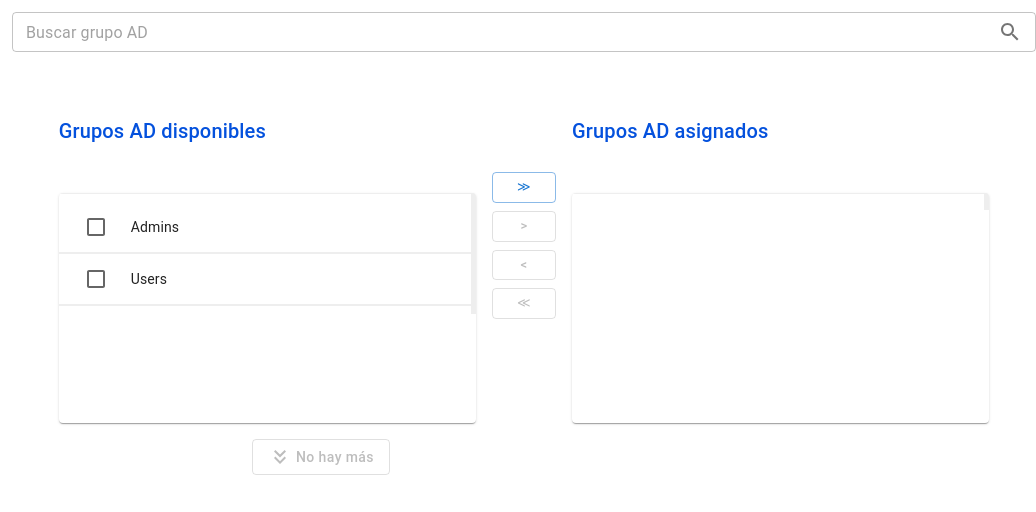
GroupAssignmentForm › shows validation error when no groups assigned
Expected: the text "Debes asignar al menos un grupo" is not shown
select one from left and move to right
Step 1. Click the text "Admins" → (155, 227), box [131,219,179,235]
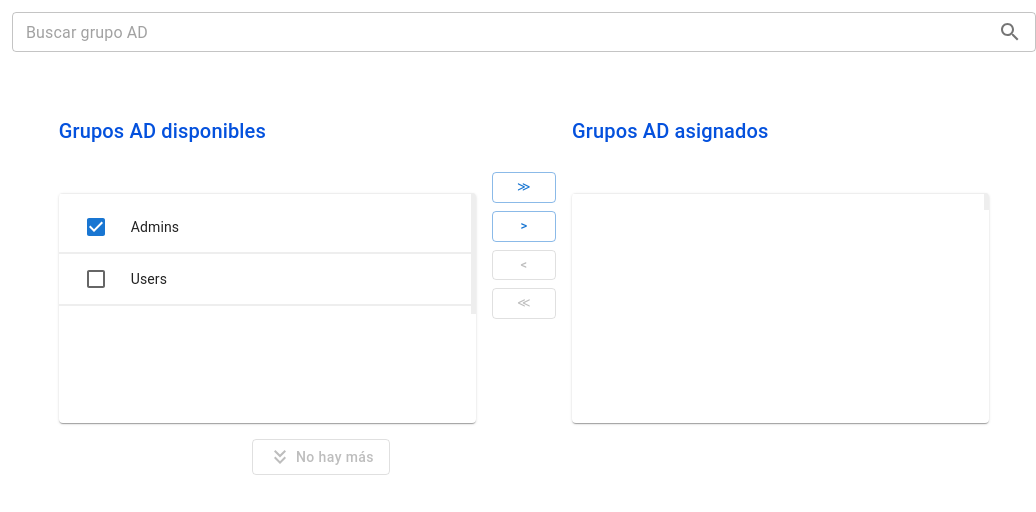
Step 2. Click the button ">" → (524, 226), box [492,211,556,242]
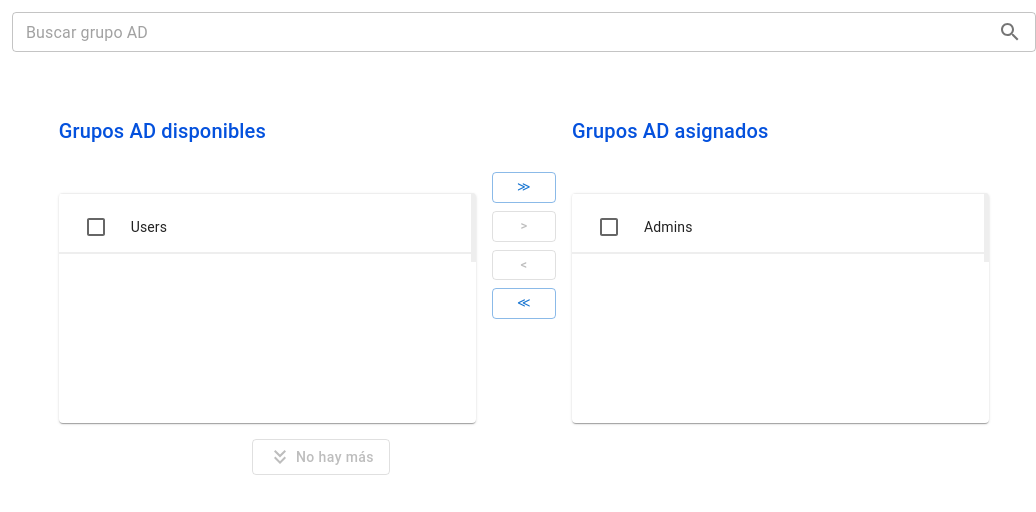
Expected: the text "Debes asignar al menos un grupo" is not shown
Step 3. Click the text "Admins" → (668, 227), box [644,219,693,235]
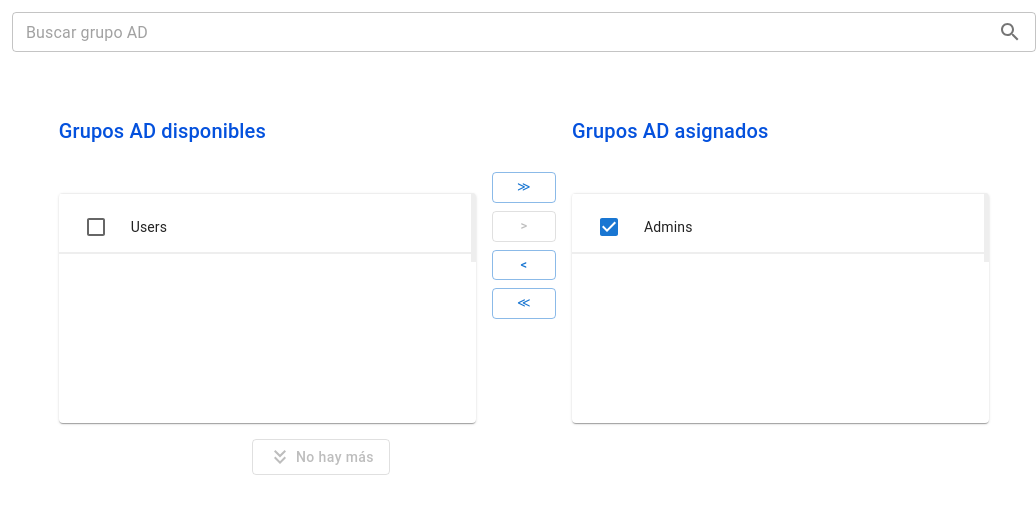
Step 4. Click the button "<" → (524, 265), box [492,250,556,280]
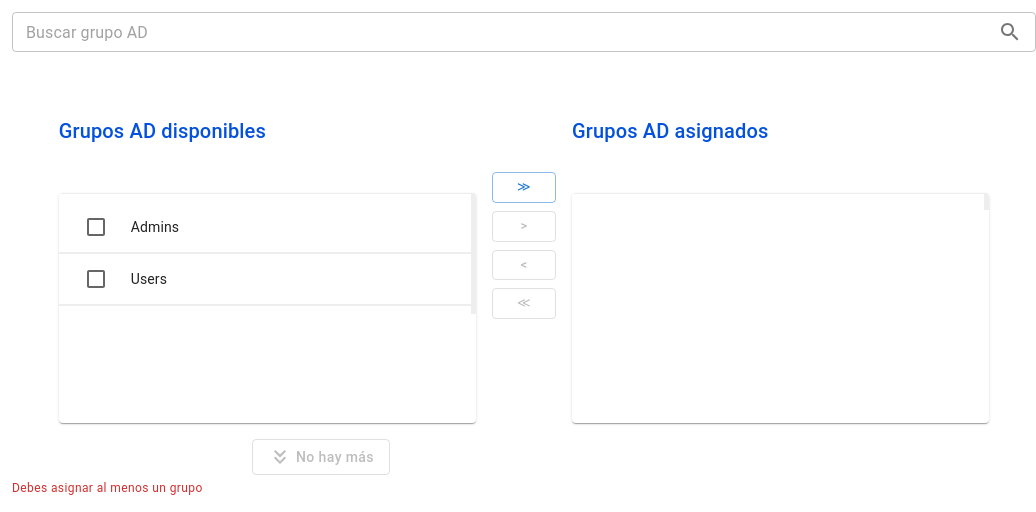
Result: the text "Debes asignar al menos un grupo" is shown at [12,481,203,495]
